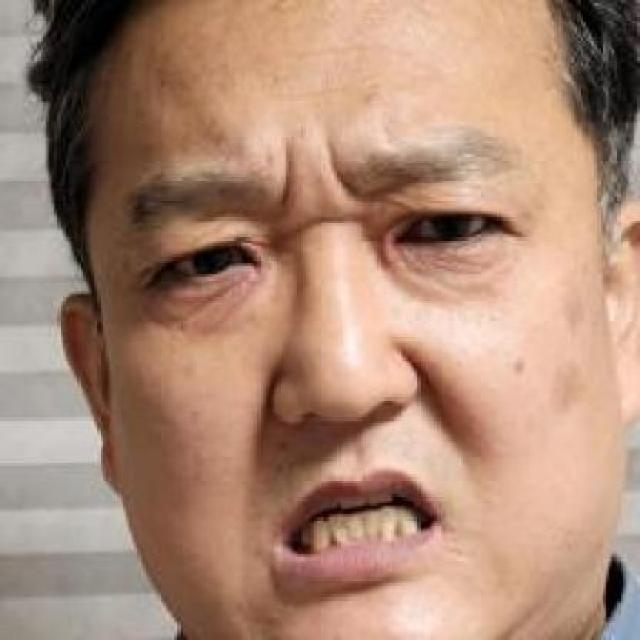angry: (65, 77, 606, 640)
